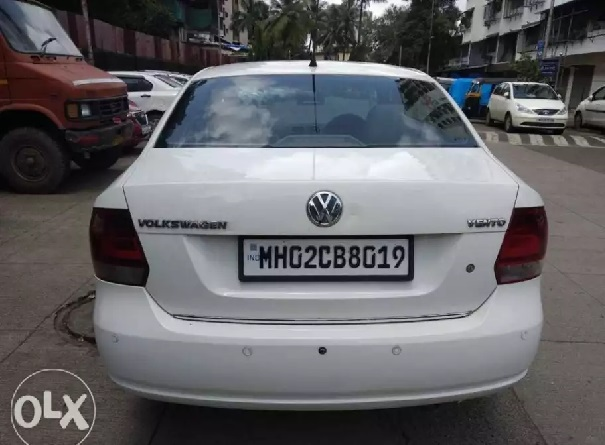licenseplate: (238, 235, 414, 282)
